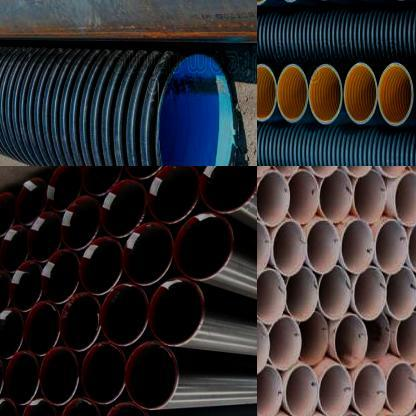pipe: (151, 53, 239, 166), (172, 210, 235, 283), (123, 338, 182, 412), (146, 276, 205, 349), (94, 282, 150, 348), (121, 220, 173, 286), (79, 340, 127, 408), (145, 166, 200, 225), (97, 177, 149, 239), (78, 234, 125, 298), (58, 290, 104, 354), (197, 166, 257, 215), (37, 345, 82, 408), (20, 299, 64, 359), (59, 194, 103, 251), (41, 247, 82, 306), (378, 63, 413, 126), (344, 63, 378, 124), (4, 349, 40, 406), (309, 64, 342, 124), (26, 209, 62, 262), (273, 221, 307, 276), (340, 219, 374, 274), (284, 363, 319, 416), (257, 170, 290, 226), (353, 168, 386, 224), (269, 314, 302, 370), (10, 260, 44, 314), (334, 314, 368, 368), (277, 64, 308, 123), (13, 176, 48, 228), (318, 266, 351, 321), (375, 219, 408, 274), (306, 221, 340, 274), (298, 310, 330, 366), (318, 364, 352, 416), (354, 266, 386, 321), (352, 363, 385, 416), (286, 266, 318, 320), (320, 169, 352, 223), (45, 166, 82, 212), (386, 266, 416, 321), (386, 361, 416, 416), (257, 268, 286, 324), (288, 169, 318, 223), (0, 305, 26, 361), (0, 225, 30, 273), (80, 166, 125, 196), (257, 365, 283, 416), (394, 172, 416, 226), (257, 64, 276, 122), (395, 311, 416, 363), (57, 396, 103, 416), (101, 400, 154, 416), (257, 218, 271, 276), (18, 396, 58, 416), (0, 191, 16, 238), (122, 166, 172, 181), (257, 319, 270, 375), (0, 268, 13, 318), (408, 219, 416, 275), (0, 395, 20, 416), (306, 166, 340, 178), (342, 166, 375, 178)
